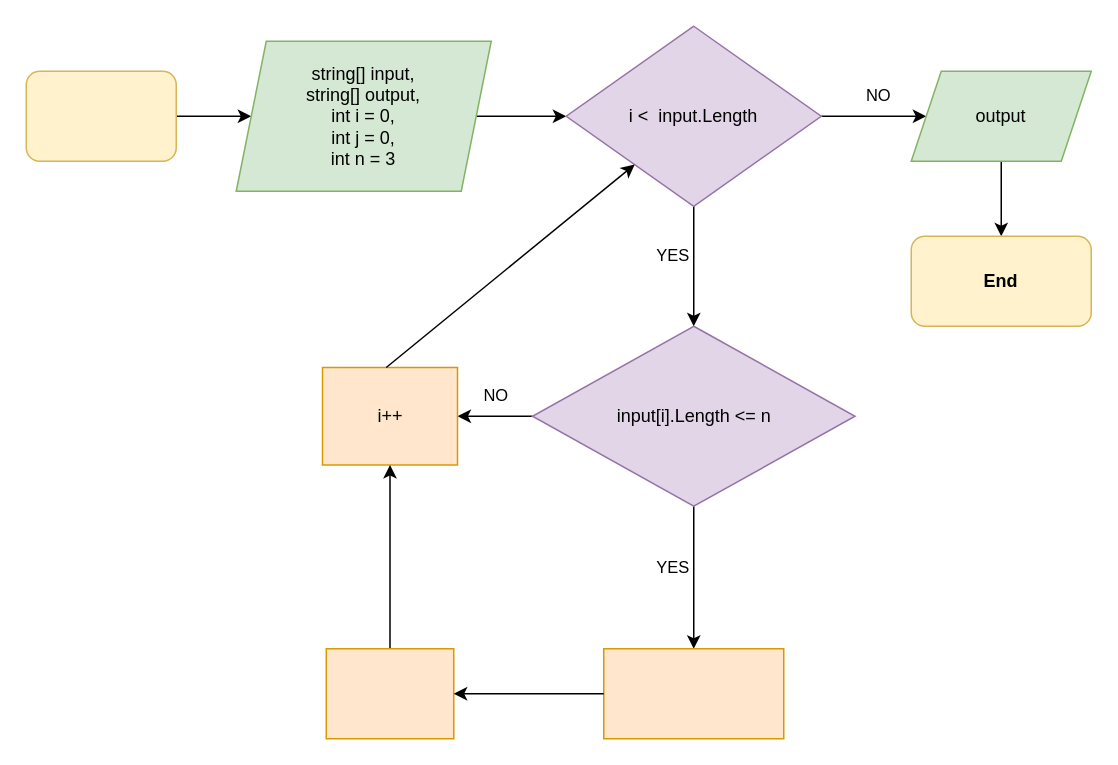
Image size: 1118x765. Some labels were removed from this diagram. The centre of each missing label's shape, as x and y in pixels:
"j++" belongs at point 389,693.
"output[j] = input[i]" belongs at point 693,693.
"Starn" belongs at point 100,115.
